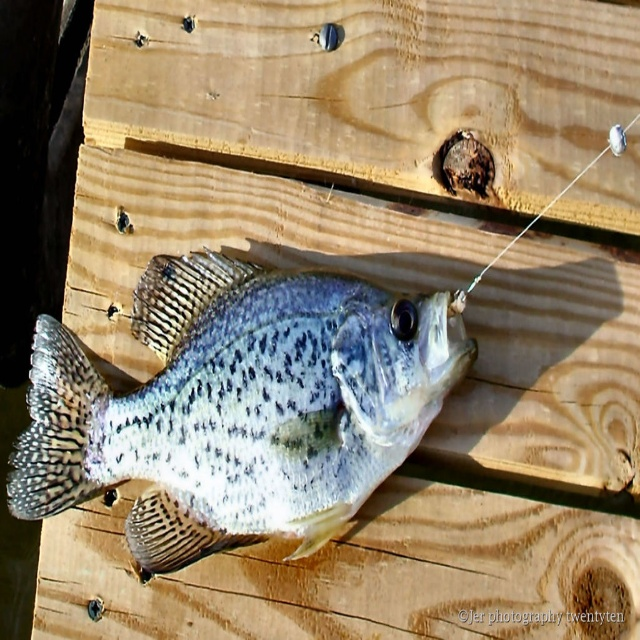Fish: (3, 248, 479, 582)
